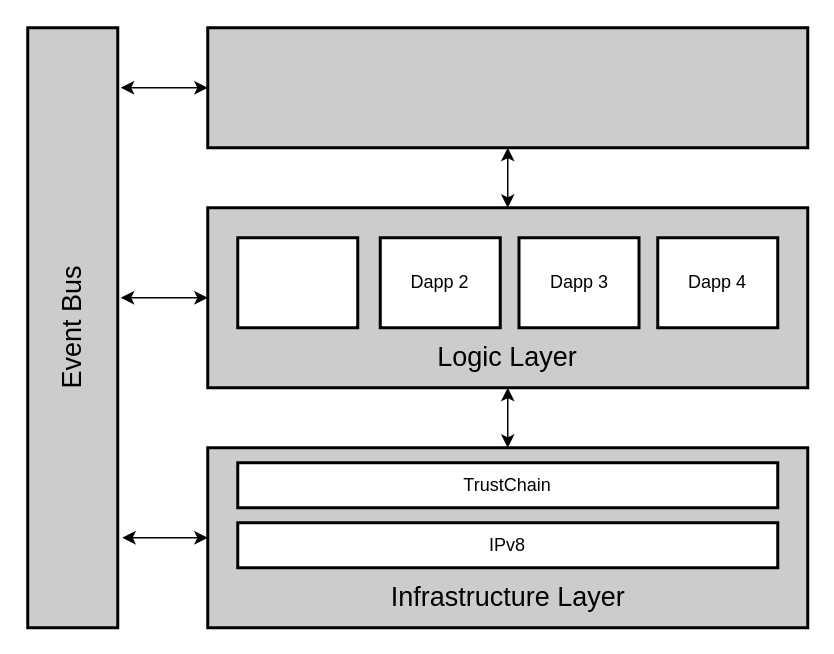
Some shapes in this 834 by 654 pixel diagram are drawn without their labels. Here are the shapes that lost their labels. From the top down, the centre of each, then its label:
(507,87): View Layer (Web-based)
(297,282): Dapp 1
